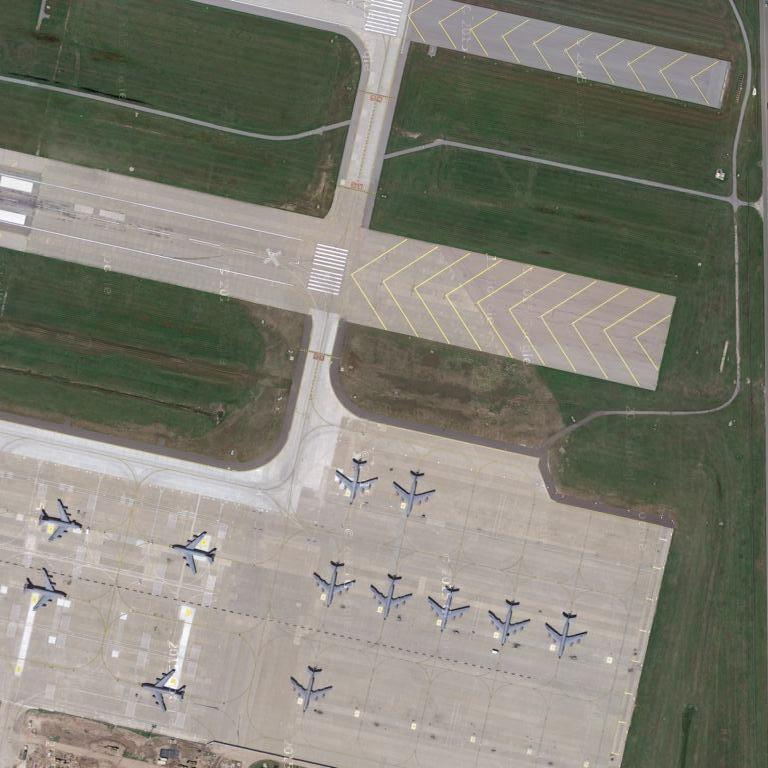KC-135: (168, 527, 218, 579), (485, 593, 531, 649), (542, 608, 589, 661), (424, 584, 471, 637), (289, 663, 336, 716), (138, 666, 189, 714), (312, 558, 357, 610), (368, 571, 412, 623), (37, 500, 85, 547), (390, 470, 436, 519), (20, 568, 70, 613), (334, 457, 380, 504)
